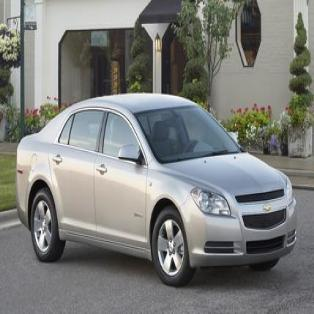Auto: (15, 94, 298, 290)
